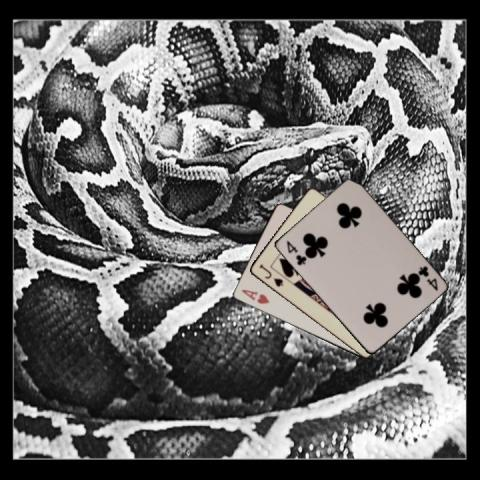4c: (284, 237, 308, 267), (415, 263, 439, 292)
Ah: (238, 286, 270, 305)
Js: (256, 261, 284, 289)
